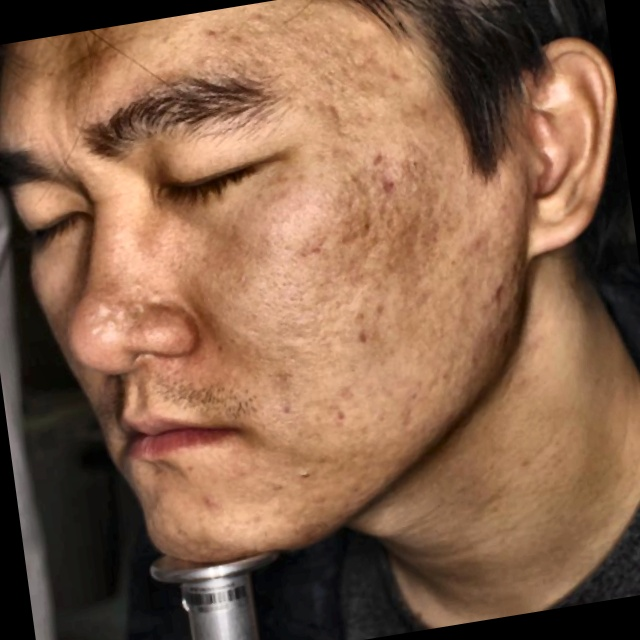comedone: (481, 278, 512, 315), (462, 223, 491, 258)
